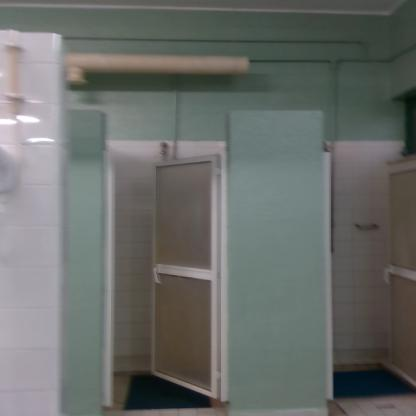open: (315, 136, 415, 410)
semi: (92, 119, 243, 415)
